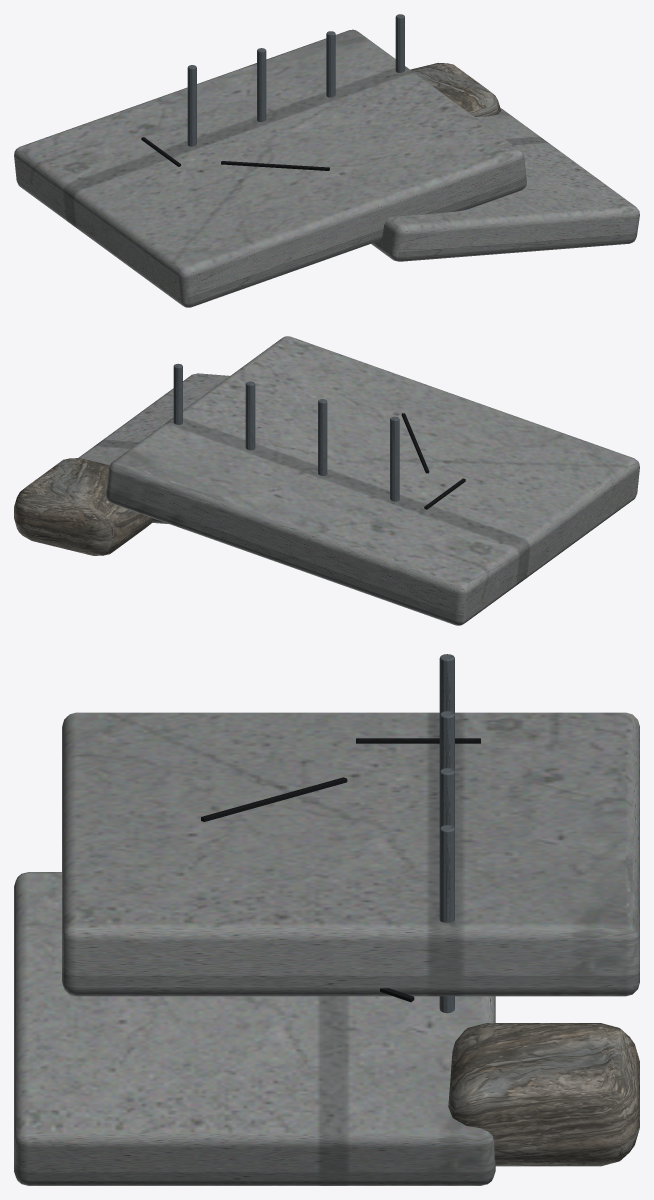
Rendered from damaged_slab.glb.
3 views of the same model, one above another, from view 1: azimuth 30°, elevation 25°; view 2: azimuth 150°, elevation 25°; view 3: azimuth 270°, elevation 25° (orthographic). The views are drawn at different scales.
Parts seen in each view (by area): view 1: BrokenSlabA, BrokenSlabB, BrokenDebris, BrokenRebar0, BrokenRebar1, BrokenRebar2, BrokenRebar3, SlabCrack02; view 2: BrokenSlabA, BrokenDebris, BrokenSlabB, BrokenRebar0, BrokenRebar1, BrokenRebar2, BrokenRebar3; view 3: BrokenSlabA, BrokenSlabB, BrokenDebris, BrokenRebar3, SlabCrack02, BrokenRebar0, BrokenRebar1, BrokenRebar2.
Part boxes in pixels (x1=…): BrokenSlabA: x1=14, y1=29, x2=526, y2=307; BrokenSlabB: x1=371, y1=108, x2=639, y2=261; BrokenDebris: x1=410, y1=63, x2=500, y2=116; BrokenRebar0: x1=187, y1=65, x2=196, y2=146; BrokenRebar1: x1=257, y1=48, x2=266, y2=121; BrokenRebar2: x1=326, y1=31, x2=335, y2=97; BrokenRebar3: x1=395, y1=14, x2=404, y2=72; SlabCrack02: x1=221, y1=161, x2=329, y2=170; BrokenSlabA: x1=106, y1=336, x2=639, y2=625; BrokenDebris: x1=14, y1=458, x2=152, y2=555; BrokenSlabB: x1=78, y1=373, x2=229, y2=524; BrokenRebar0: x1=390, y1=416, x2=399, y2=501; BrokenRebar1: x1=318, y1=399, x2=327, y2=475; BrokenRebar2: x1=245, y1=381, x2=255, y2=450; BrokenRebar3: x1=173, y1=363, x2=182, y2=424; BrokenSlabA: x1=62, y1=712, x2=639, y2=996; BrokenSlabB: x1=14, y1=872, x2=495, y2=1185; BrokenDebris: x1=448, y1=1023, x2=639, y2=1166; BrokenRebar3: x1=439, y1=825, x2=454, y2=1013; SlabCrack02: x1=201, y1=777, x2=347, y2=821; BrokenRebar0: x1=439, y1=654, x2=454, y2=714; BrokenRebar1: x1=439, y1=711, x2=454, y2=771; BrokenRebar2: x1=439, y1=768, x2=454, y2=828.
Size of the model in its own units: 9.01 by 3.11 by 6.5.
Materials: 4 (4 with a texture image).
